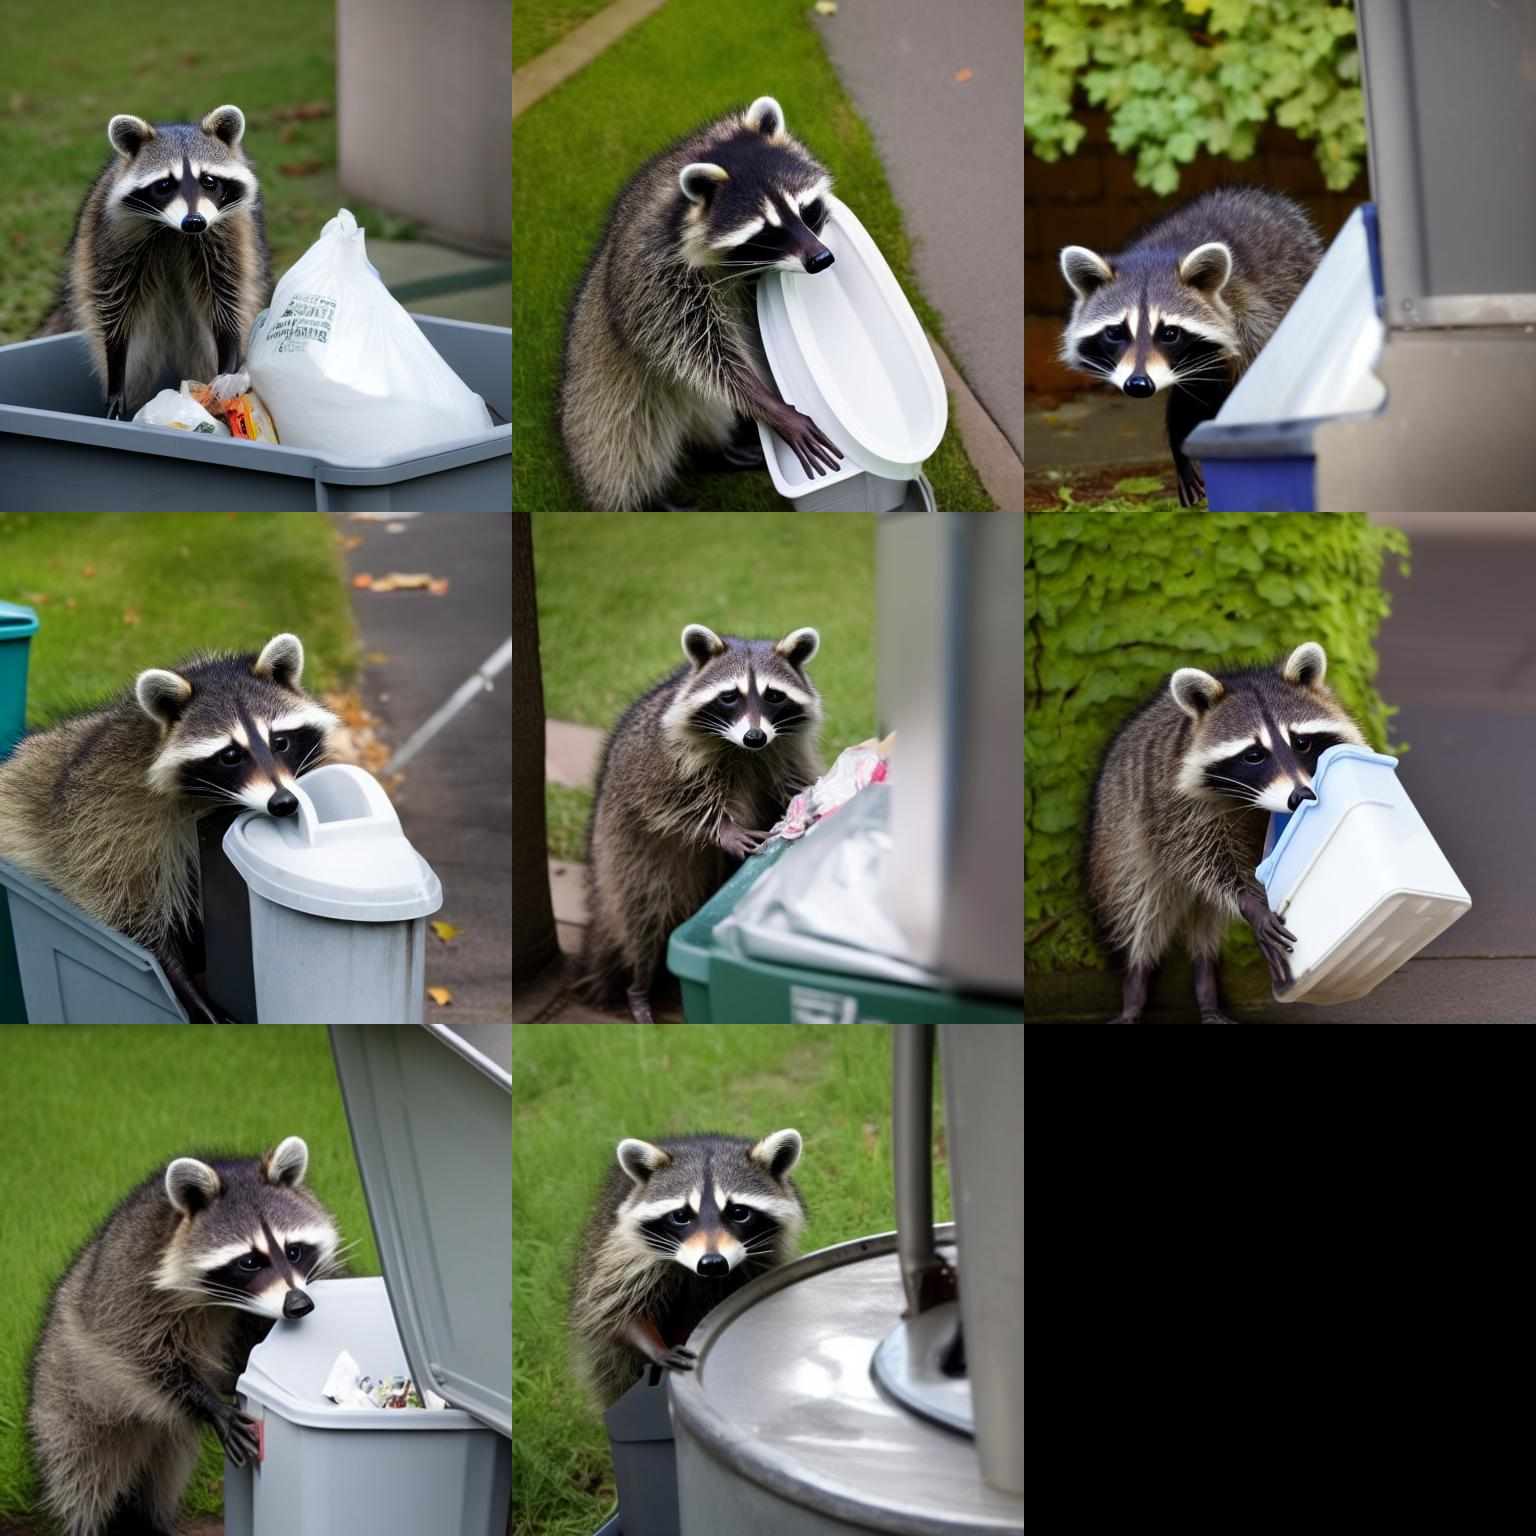raccoon: (15, 1129, 345, 1498), (550, 84, 840, 495), (0, 627, 350, 930), (1070, 637, 1363, 945), (585, 617, 836, 940), (563, 1117, 817, 1400), (1052, 180, 1335, 409), (55, 93, 277, 363)
